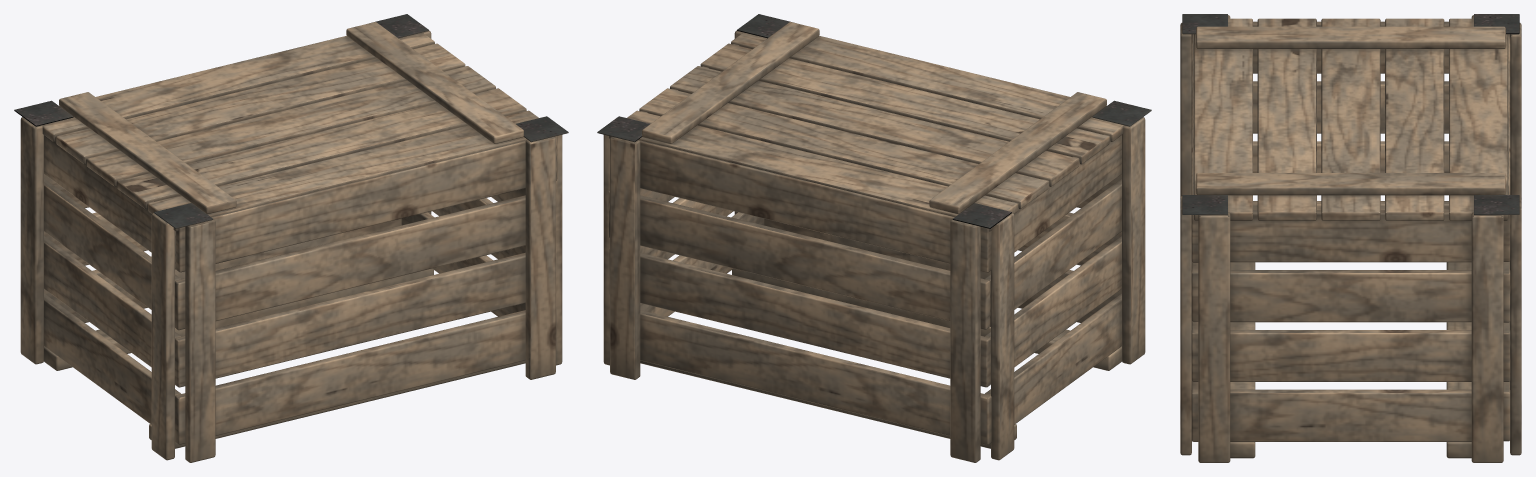
The model's file is SM_Crate_Wood_Body.fbx.
The picture shows the model from 3 angles, left to right: view 1: azimuth 30°, elevation 25°; view 2: azimuth 150°, elevation 25°; view 3: azimuth 270°, elevation 25°; orthographic projection. The views are drawn at different scales.
Visible parts, largest first — view 1: Crate_Wood_Body; view 2: Crate_Wood_Body; view 3: Crate_Wood_Body.
Part boxes in pixels (x1=…): Crate_Wood_Body: x1=14, y1=14, x2=568, y2=462; Crate_Wood_Body: x1=597, y1=14, x2=1151, y2=462; Crate_Wood_Body: x1=1180, y1=14, x2=1521, y2=462.
Size of the model in its own units: 0.749 by 1.05 by 0.62.
Materials: 1 (1 with a texture image).
